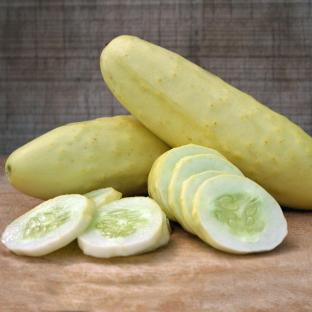Cucumber: (101, 36, 311, 209), (6, 116, 169, 199), (193, 175, 287, 253), (148, 144, 225, 221), (168, 155, 242, 232), (2, 195, 95, 256), (78, 197, 163, 257), (180, 171, 224, 233), (139, 212, 171, 253), (84, 188, 122, 208)
